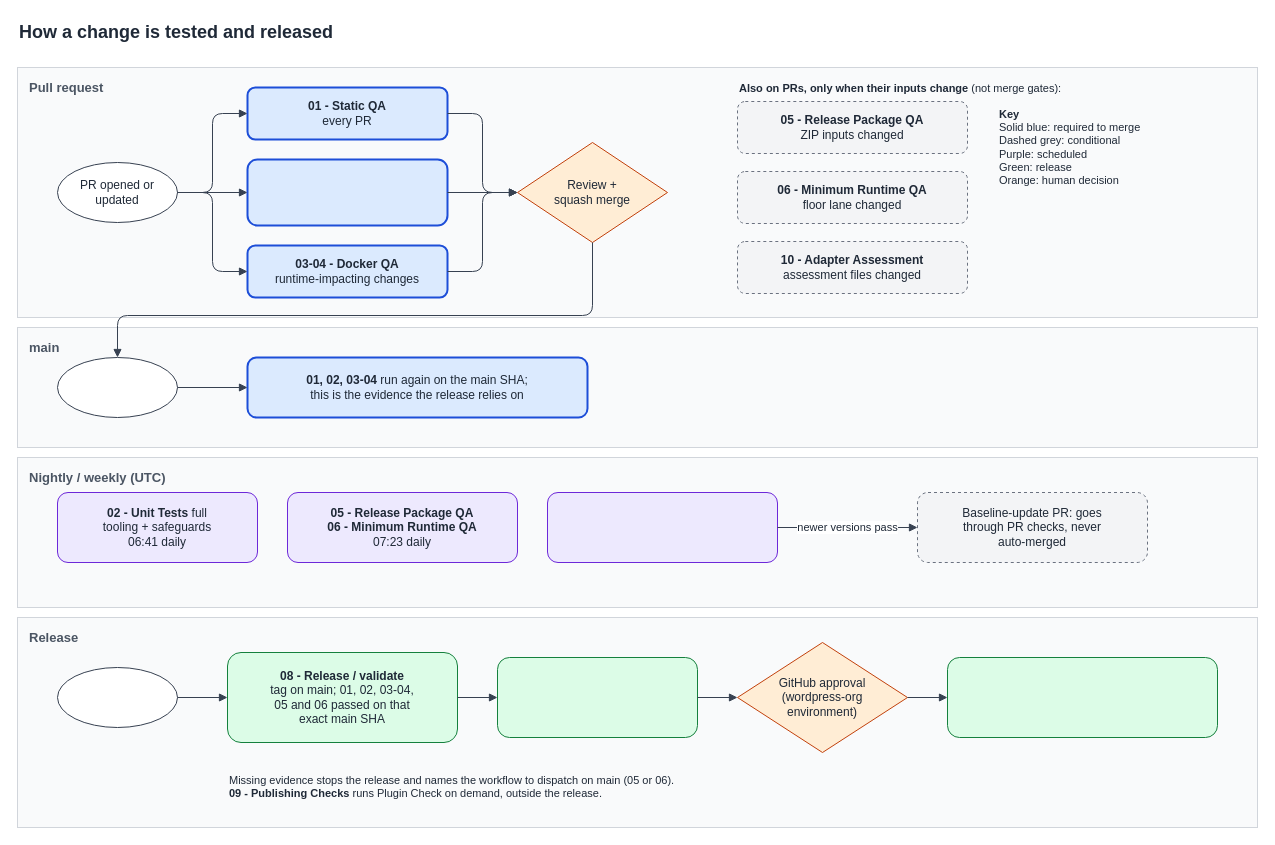
This 1275x845 diagram has some shape labels left out. Here are the shapes that lost their labels. From the top down, the box of each, then its label:
(246, 158, 448, 226): 02 - Unit Tests every PR; tooling lane when QA-relevant files change
(56, 356, 178, 418): Push to main (new SHA)
(546, 492, 778, 562): 07 - Compatibility QA 8 version lanes + current Plugin Check, Mondays 09:17
(56, 666, 178, 728): Push tag vX.Y.Z
(496, 656, 698, 738): Build ZIP once; Plugin Check pinned + current; seal artifact
(946, 656, 1218, 738): 08 - Release / publish same ZIP to WordPress.org SVN + GitHub Release
